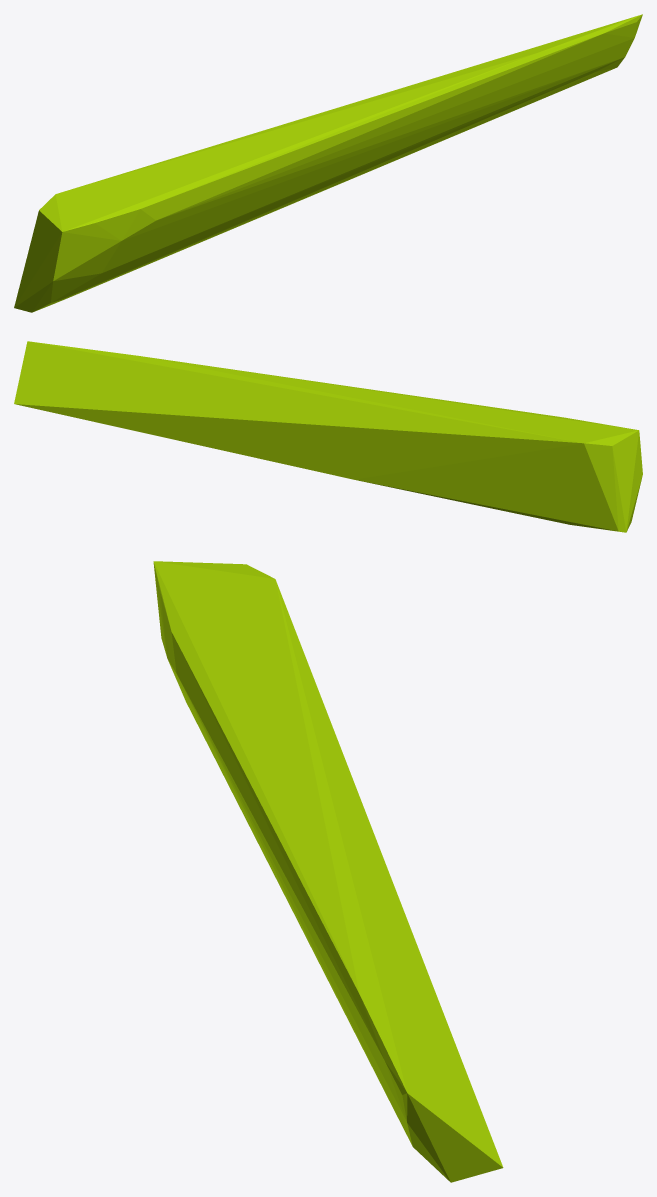
File: arm-L4-mirror_convex_piece_003.obj
The picture shows the model from 3 angles, top to bottom: view 1: azimuth 30°, elevation 25°; view 2: azimuth 150°, elevation 25°; view 3: azimuth 270°, elevation 25°; orthographic projection. The views are drawn at different scales.
Size of the model in its own units: 0.2797 by 0.0394 by 0.0754.
